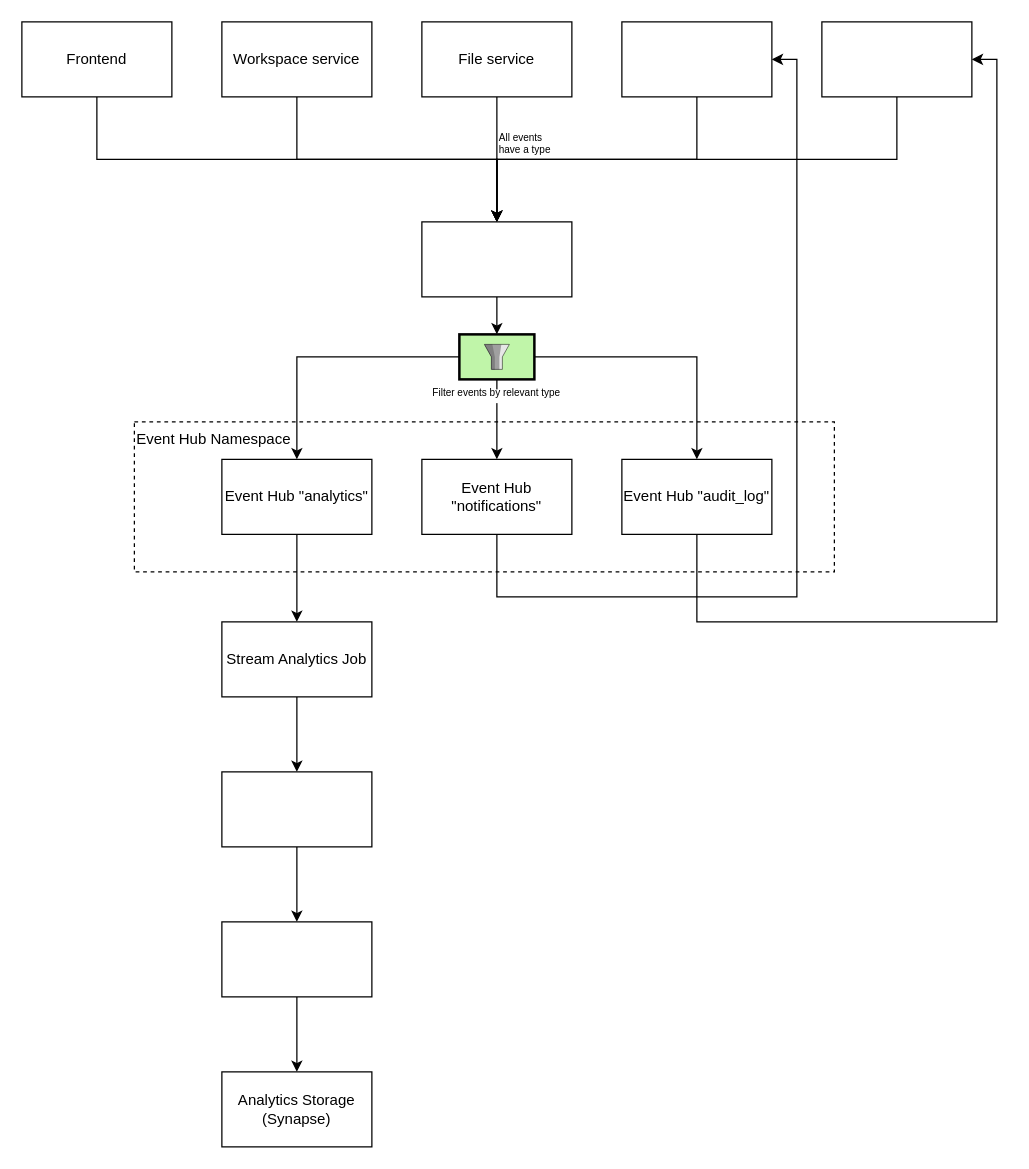
The diagram is 1029 pixels wide and 1169 high, and some of its shapes have lost their labels. Here are the shapes that lost their labels. From the top down, the centre of each, then its label:
At point 696,59: "Notification service".
At point 896,59: "Audit log service".
At point 496,259: "Event Grid Topic".
At point 296,809: "Blob Storage".
At point 296,959: "Data Factory".
